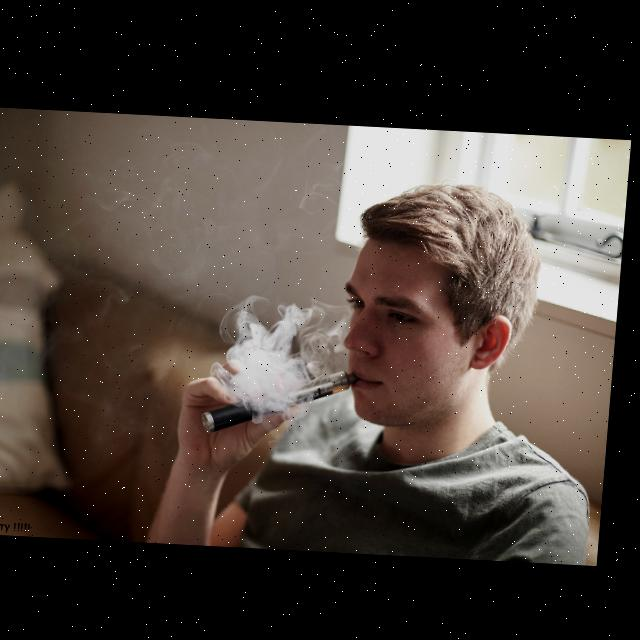vape: (208, 359, 367, 437)
